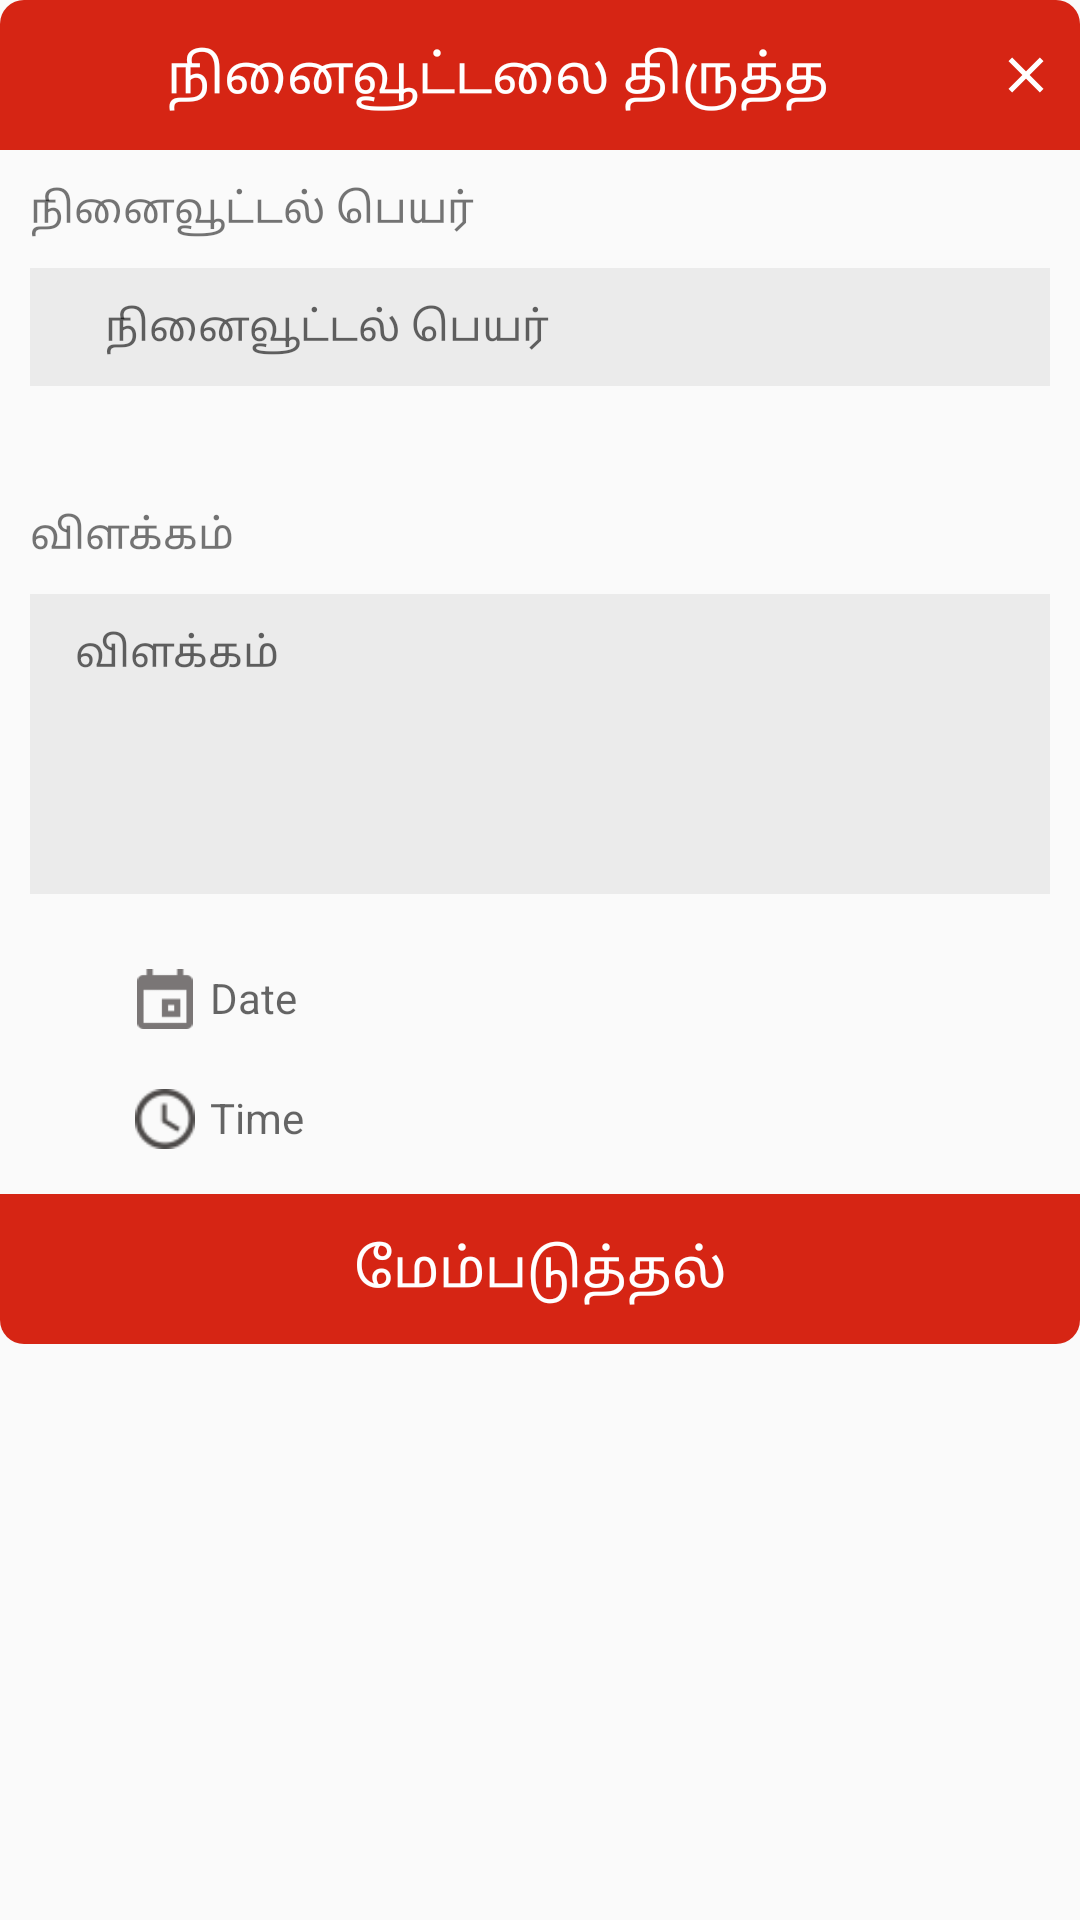

Icon click points for this 1080x1920 phone screenshot, format point (x, y):
close dialog: point (1026, 75)
